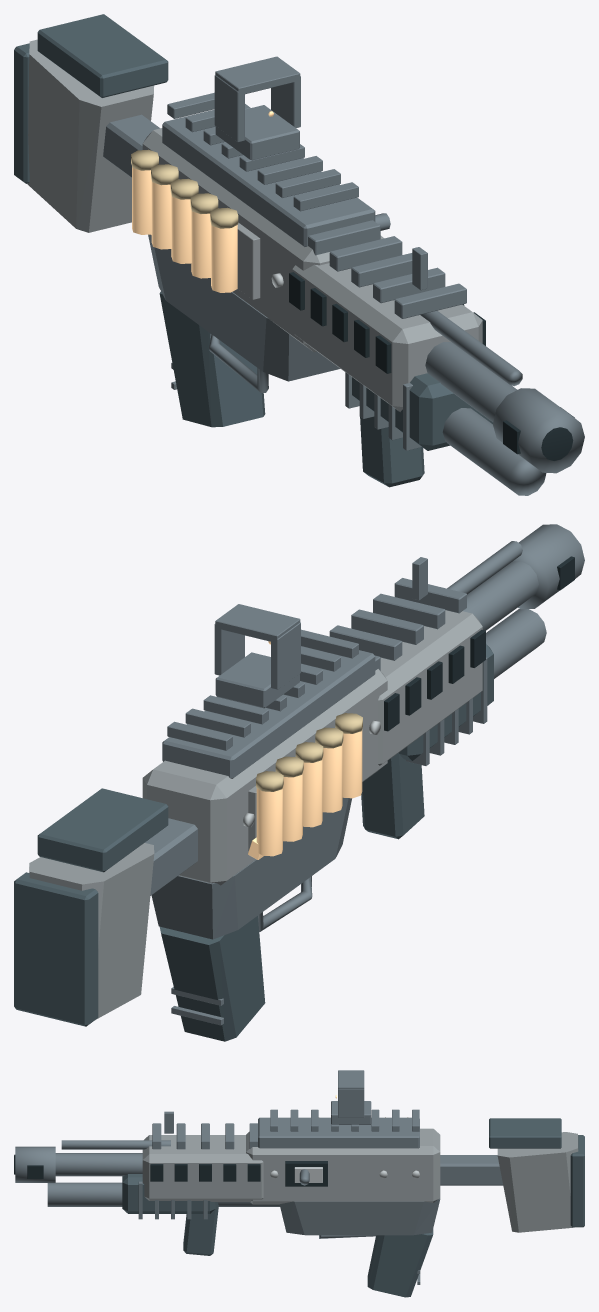
File: clawbreaker.glb
The picture shows the model from 3 angles, top to bottom: view 1: azimuth 30°, elevation 25°; view 2: azimuth 150°, elevation 25°; view 3: azimuth 270°, elevation 25°; orthographic projection. The views are drawn at different scales.
Parts seen in each view (by area): view 1: stock_23, handguard_28, receiver_lower_2, receiver_top_cover_3, pistol_grip_17, cheek_rest_25, receiver_1, muzzle_brake_53, magazine_tube_59, pump_60, barrel_26, foregrip_44 (+26 smaller); view 2: receiver_1, stock_pad_24, receiver_lower_2, stock_23, pistol_grip_17, handguard_28, receiver_top_cover_3, cheek_rest_25, foregrip_44, muzzle_brake_53, barrel_26, sight_base_76 (+22 smaller); view 3: receiver_1, handguard_28, stock_23, receiver_lower_2, receiver_top_cover_3, pistol_grip_17, cheek_rest_25, magazine_tube_59, barrel_26, stock_beam_22, pump_60, foregrip_44 (+8 smaller).
Boxes of the visible parts, left/top/right/bottom form: stock_23: left=27, top=39, right=154, bottom=232; handguard_28: left=292, top=263, right=482, bottom=411; receiver_lower_2: left=148, top=234, right=340, bottom=381; receiver_top_cover_3: left=162, top=109, right=375, bottom=246; pistol_grip_17: left=159, top=291, right=265, bottom=427; cheek_rest_25: left=37, top=14, right=168, bottom=97; receiver_1: left=142, top=128, right=384, bottom=352; muzzle_brake_53: left=493, top=388, right=584, bottom=473; magazine_tube_59: left=442, top=408, right=546, bottom=495; pump_60: left=352, top=373, right=493, bottom=450; barrel_26: left=425, top=342, right=517, bottom=421; foregrip_44: left=360, top=416, right=424, bottom=487; receiver_1: left=142, top=669, right=387, bottom=885; stock_pad_24: left=14, top=872, right=98, bottom=1026; receiver_lower_2: left=151, top=797, right=351, bottom=939; stock_23: left=29, top=843, right=154, bottom=1019; pistol_grip_17: left=159, top=916, right=265, bottom=1041; handguard_28: left=378, top=610, right=482, bottom=765; receiver_top_cover_3: left=162, top=646, right=375, bottom=778; cheek_rest_25: left=37, top=788, right=168, bottom=872; foregrip_44: left=361, top=752, right=424, bottom=839; muzzle_brake_53: left=513, top=524, right=584, bottom=609; barrel_26: left=463, top=561, right=538, bottom=630; sight_base_76: left=215, top=652, right=299, bottom=708; receiver_1: left=246, top=1128, right=440, bottom=1204; handguard_28: left=142, top=1135, right=263, bottom=1201; stock_23: left=497, top=1132, right=578, bottom=1232; receiver_lower_2: left=279, top=1198, right=440, bottom=1235; receiver_top_cover_3: left=258, top=1117, right=419, bottom=1148; pistol_grip_17: left=367, top=1229, right=433, bottom=1297; cheek_rest_25: left=489, top=1118, right=561, bottom=1148; magazine_tube_59: left=47, top=1182, right=279, bottom=1206; barrel_26: left=55, top=1153, right=142, bottom=1176; stock_beam_22: left=440, top=1155, right=503, bottom=1185; pump_60: left=122, top=1174, right=215, bottom=1213; foregrip_44: left=183, top=1202, right=218, bottom=1255.
Bounding box in the file's own units: 0.2595 × 0.5793 × 1.41.
